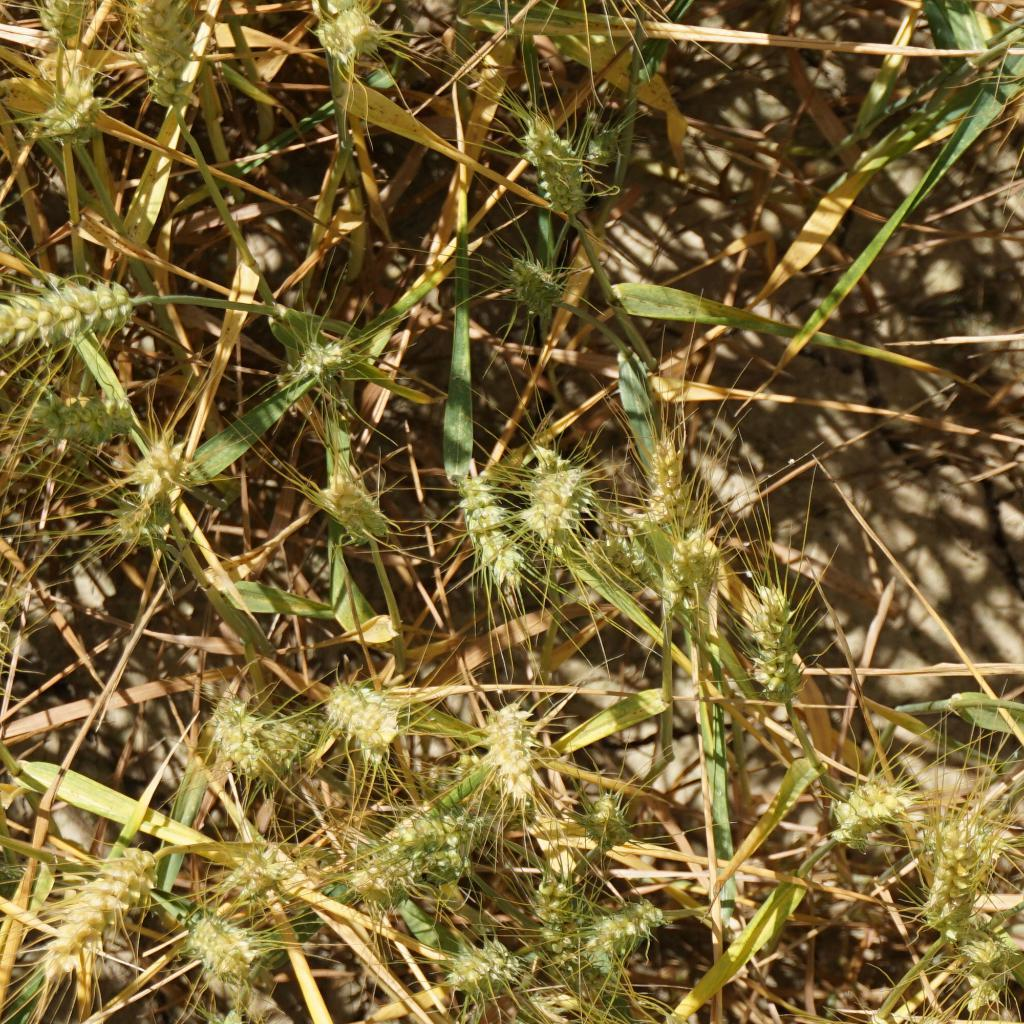0-0: (36, 826, 164, 978), (0, 272, 144, 356), (447, 459, 529, 594), (120, 0, 198, 107), (829, 760, 915, 852), (745, 575, 805, 697), (118, 424, 200, 512), (36, 387, 150, 447), (427, 929, 528, 996), (248, 706, 346, 775), (332, 681, 424, 750), (486, 706, 553, 799), (310, 0, 398, 69), (584, 886, 660, 965), (394, 809, 483, 876), (212, 692, 281, 778), (574, 532, 661, 600), (525, 111, 584, 210), (345, 843, 415, 926), (179, 912, 280, 966), (320, 465, 388, 543), (524, 459, 596, 532), (647, 435, 703, 528), (920, 822, 975, 913), (526, 859, 578, 950), (33, 86, 108, 147), (0, 591, 36, 718), (671, 526, 733, 598), (217, 847, 287, 903), (573, 787, 636, 847), (934, 799, 1003, 852), (505, 986, 592, 1024), (505, 252, 561, 311), (959, 918, 1006, 983), (44, 0, 105, 40), (304, 326, 349, 380), (957, 983, 1013, 1024), (186, 999, 257, 1024), (606, 510, 643, 557), (576, 115, 611, 158), (615, 1010, 712, 1024)
